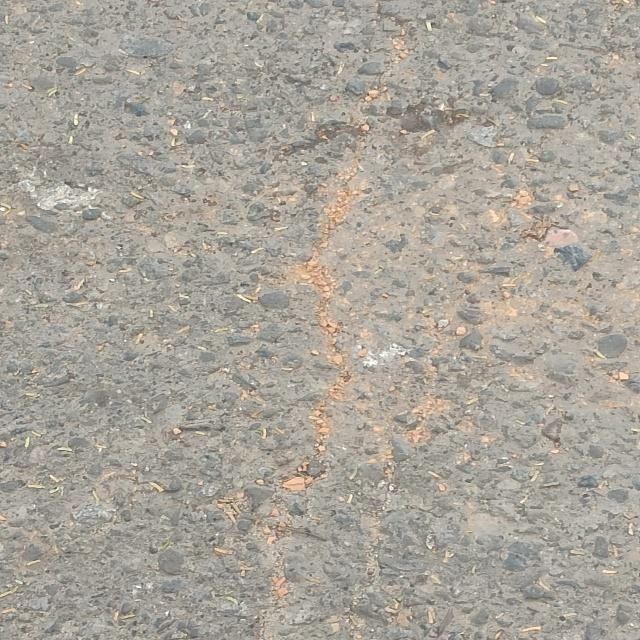Surface Erosion: (26, 23, 604, 597)
